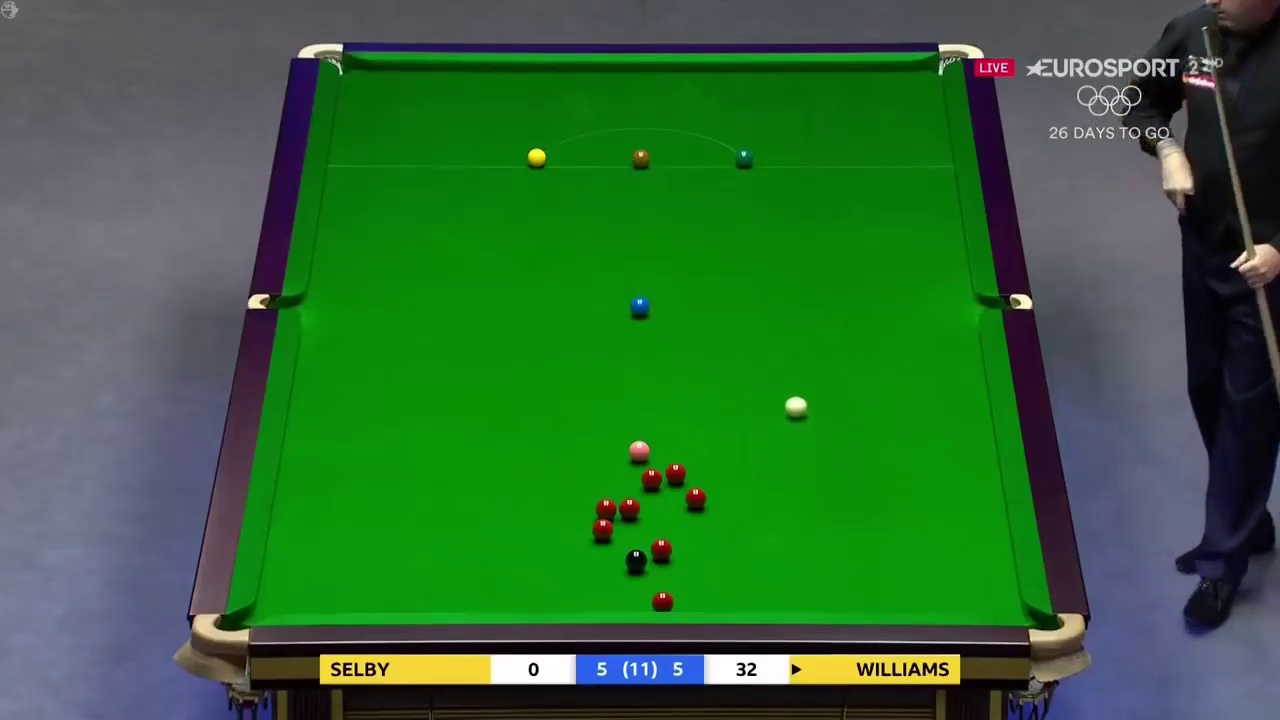black: (624, 550, 647, 576)
blue: (629, 296, 651, 316)
brown: (634, 150, 651, 166)
green: (731, 150, 754, 168)
pink: (627, 443, 651, 463)
red: (594, 515, 614, 546), (639, 468, 663, 491), (652, 538, 673, 564), (619, 497, 640, 520), (654, 590, 675, 612), (667, 463, 685, 486), (687, 490, 708, 509)
white: (785, 395, 808, 418)
yellow: (526, 145, 548, 168)
